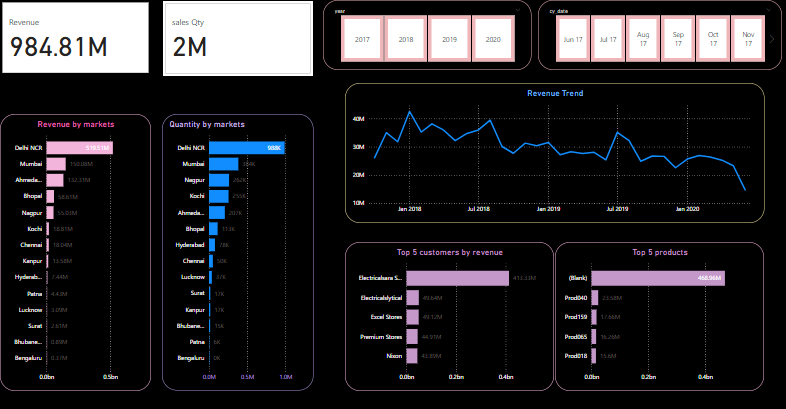

What the dashboard file says about the page in this screenshot:
{"tool":"powerbi","page":{"name":"Page 1","canvas":[1580,820],"ordinal":0},"visuals":[{"type":"cardVisual","fields":{"Data":["Base Measures.sales Qty"]},"box":[326.7,1.7,300,150],"z":2},{"type":"cardVisual","fields":{"Data":["Base Measures.Revenue"]},"box":[0,0,302.4,151.2],"z":5},{"type":"barChart","title":"Revenue by markets","fields":{"Y":["Base Measures.Revenue"],"Category":["sales markets.markets_name"]},"box":[0,228.6,301.8,553.6],"z":6},{"type":"barChart","title":"Quantity by markets","fields":{"Y":["Base Measures.sales Qty"],"Category":["sales markets.markets_name"]},"box":[323.3,228.3,303.3,553.3],"z":7},{"type":"slicer","fields":{"Values":["sales date.year"]},"box":[646.7,0,416.7,140],"z":8},{"type":"slicer","fields":{"Values":["sales date.cy_date"]},"box":[1075,0,488.3,140],"z":9},{"type":"barChart","title":"Top 5 customers by revenue","fields":{"Y":["Base Measures.Revenue"],"Category":["sales customers.custmer_name"]},"box":[690,483.3,418.3,298.3],"z":10},{"type":"barChart","title":"Top 5 products","fields":{"Y":["Base Measures.Revenue"],"Category":["sales products.product_code"]},"box":[1110,483.3,418.3,298.3],"z":11},{"type":"lineChart","title":"Revenue Trend","fields":{"Y":["Base Measures.Revenue"],"Category":["sales date.cy_date"]},"box":[689.3,166.1,839.3,280.4],"z":12}]}

Visuals, with their boxes in screenshot pixels (x1, y1, x2, y2), scaled from the page's 1580x820 canvas onto the 786x409 screenshot:
cardVisual - Base Measures.sales Qty: (163, 1, 312, 76)
cardVisual - Base Measures.Revenue: (0, 0, 150, 75)
"Revenue by markets" barChart: (0, 114, 150, 390)
"Quantity by markets" barChart: (161, 114, 312, 390)
slicer - sales date.year: (322, 0, 529, 70)
slicer - sales date.cy_date: (535, 0, 778, 70)
"Top 5 customers by revenue" barChart: (343, 241, 551, 390)
"Top 5 products" barChart: (552, 241, 760, 390)
"Revenue Trend" lineChart: (343, 83, 760, 223)
